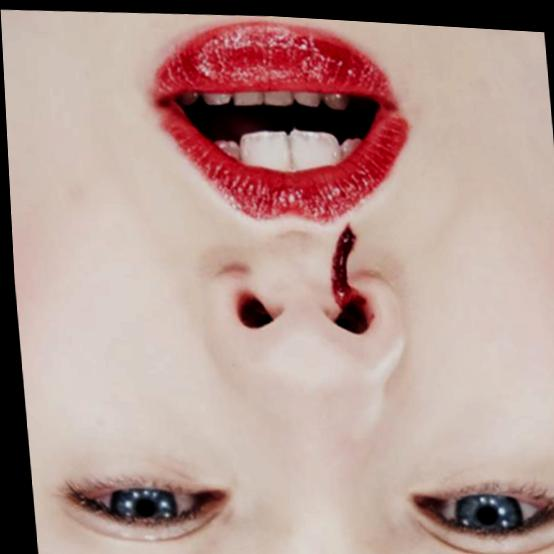Fire: (330, 221, 363, 303)
